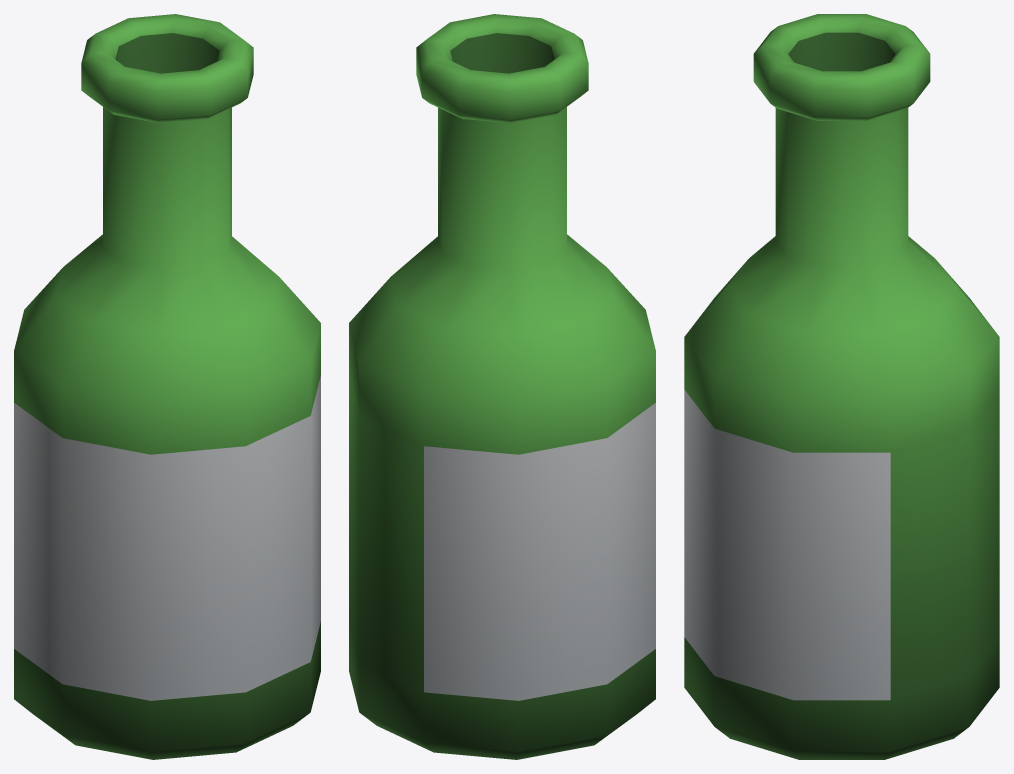
Rendered from AlkDrink.fbx.
3 renders of one model, left to right at view 1: azimuth 30°, elevation 25°; view 2: azimuth 150°, elevation 25°; view 3: azimuth 270°, elevation 25°, orthographic.
Parts seen in each view (by area): view 1: AlkDrink; view 2: AlkDrink; view 3: AlkDrink.
Boxes of the visible parts, x1,y1,x2,y2 form: AlkDrink: (14,14,320,759); AlkDrink: (349,14,655,759); AlkDrink: (684,14,999,759).
Size of the model in its own units: 190 by 461 by 200.
